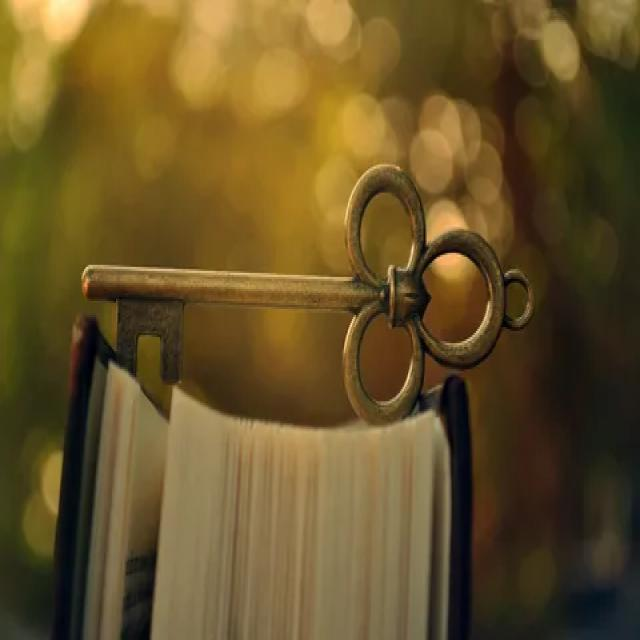key: (69, 152, 535, 442)
